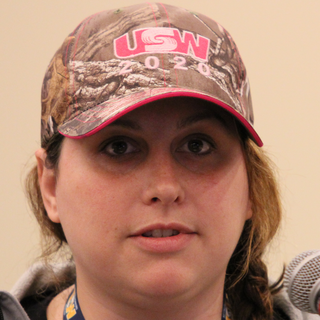eye: (175, 133, 220, 159), (94, 133, 141, 157)
